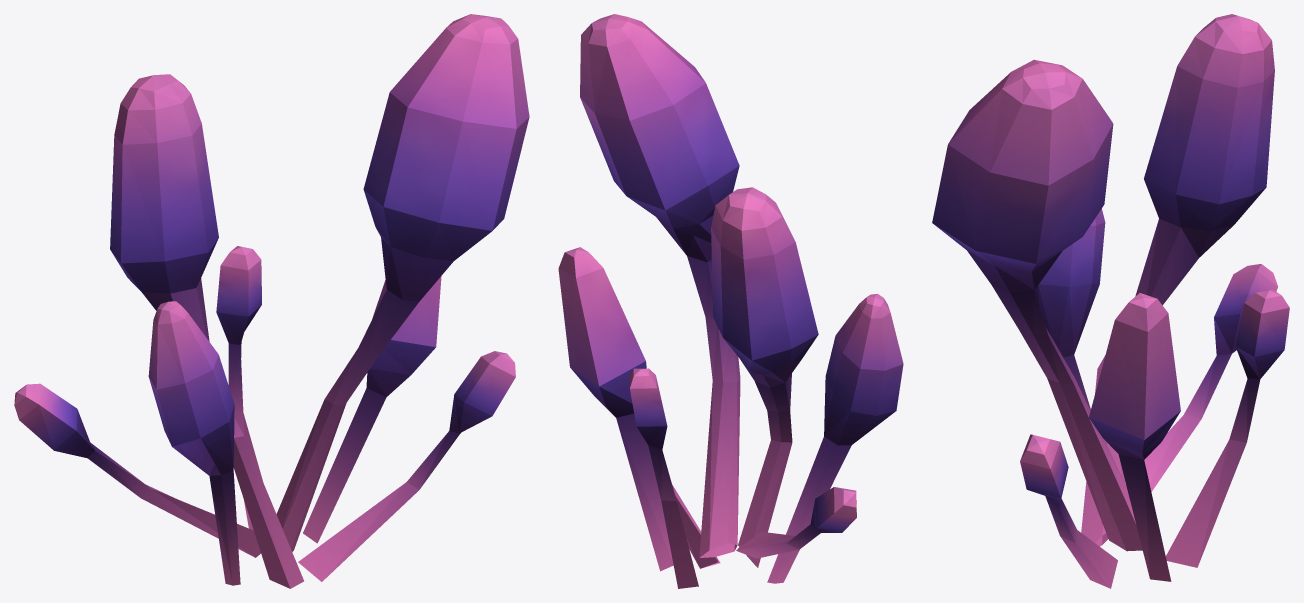
File: ZLP_Mushroom_A_4.FBX
3 views of the same model, side by side, from view 1: azimuth 30°, elevation 25°; view 2: azimuth 150°, elevation 25°; view 3: azimuth 270°, elevation 25° (orthographic). The views are drawn at different scales.
Parts seen in each view (by area): view 1: ZLP_Mushroom_A_4; view 2: ZLP_Mushroom_A_4; view 3: ZLP_Mushroom_A_4.
Boxes of the visible parts, x1,y1,x2,y2 form: ZLP_Mushroom_A_4: [14, 14, 529, 588]; ZLP_Mushroom_A_4: [558, 14, 903, 588]; ZLP_Mushroom_A_4: [932, 14, 1289, 588].
Size of the model in its own units: 78.71 by 103 by 56.88.
